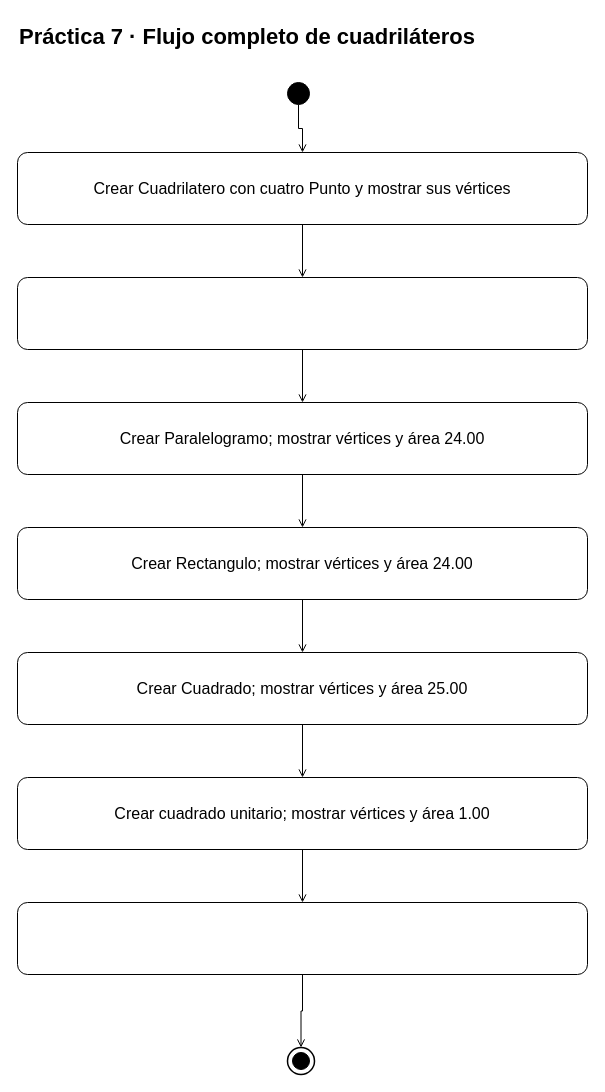
This 605x1092 diagram has some shape labels left out. The shapes that lost their labels are listed below. From the top down, each one's centre as x and y in pixels, then its label:
the point at 302,313: Crear Trapezoide; mostrar vértices y área 24.00
the point at 302,938: Mostrar fin de la ejecución
